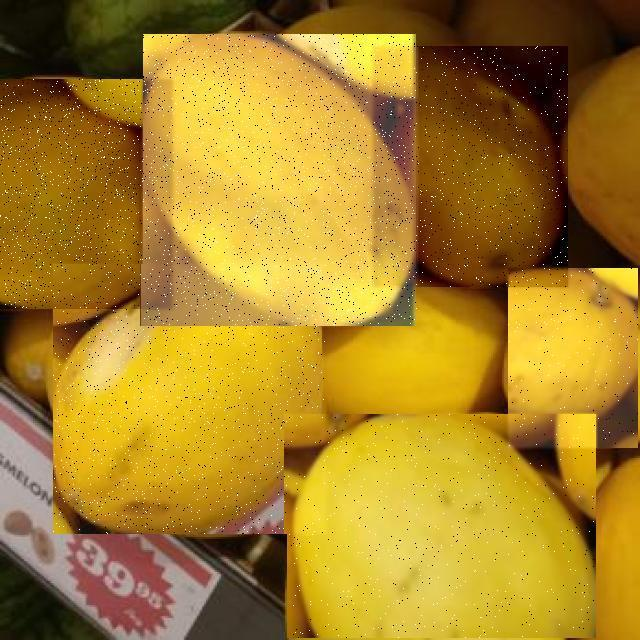Honey Dew: (144, 34, 418, 326), (54, 264, 326, 534), (287, 414, 596, 638), (377, 46, 569, 287), (1, 79, 177, 309), (508, 269, 638, 449)
